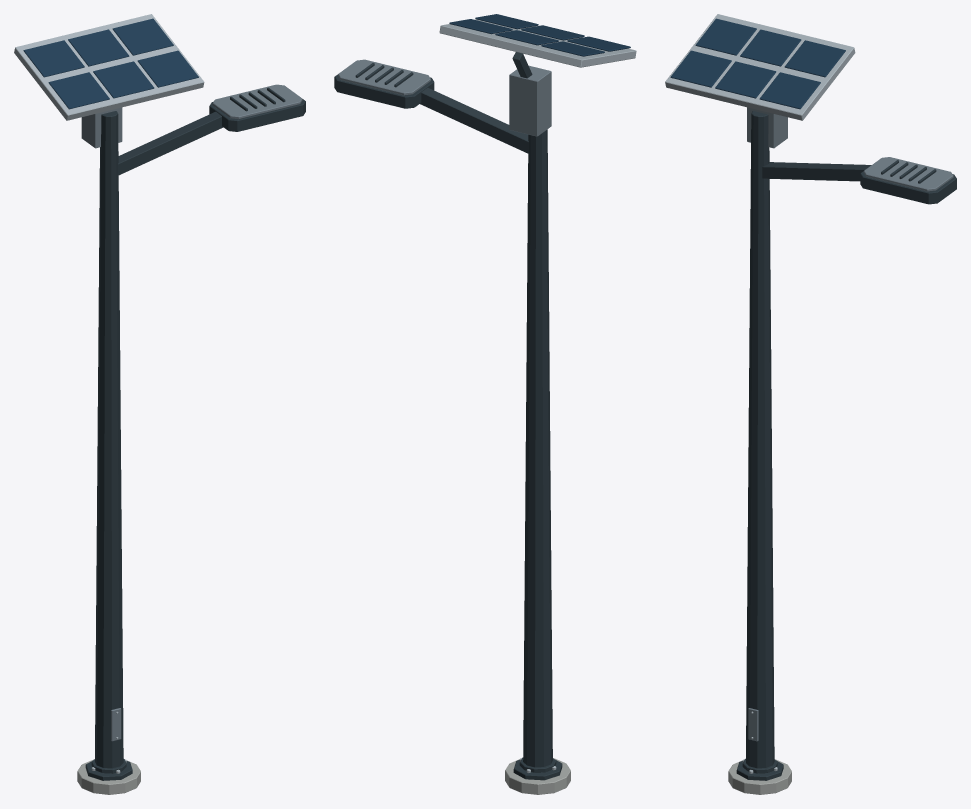
Rendered from b18_solar_panel_street_lamp.glb.
3 renders of one model, left to right at view 1: azimuth 30°, elevation 25°; view 2: azimuth 150°, elevation 25°; view 3: azimuth 330°, elevation 25°, orthographic. The views are drawn at different scales.
Parts seen in each view (by area): view 1: b18_solar_panel_street_lamp; view 2: b18_solar_panel_street_lamp; view 3: b18_solar_panel_street_lamp.
Part boxes in pixels (x1=…): b18_solar_panel_street_lamp: x1=14, y1=14, x2=305, y2=794; b18_solar_panel_street_lamp: x1=334, y1=14, x2=636, y2=794; b18_solar_panel_street_lamp: x1=665, y1=14, x2=956, y2=794.
Bounding box in the file's own units: 2.24 × 6.13 × 0.8178.
